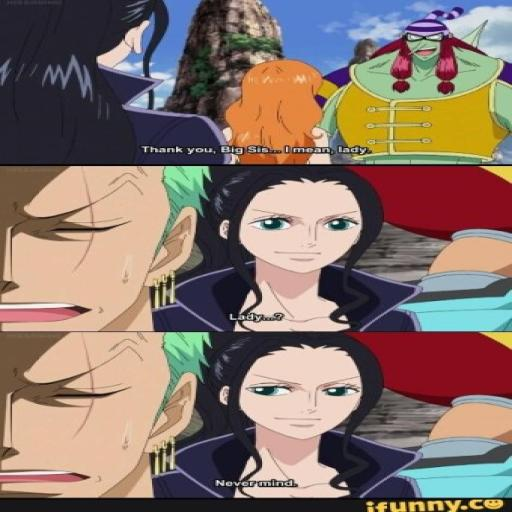NicoRobin: (214, 332, 390, 447), (224, 167, 376, 269)
Zoro: (0, 330, 215, 502), (0, 161, 215, 330)
